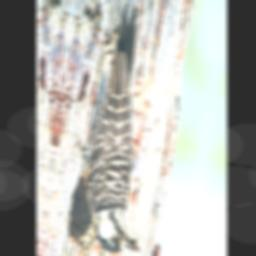Woodpecker: (62, 0, 172, 256)
